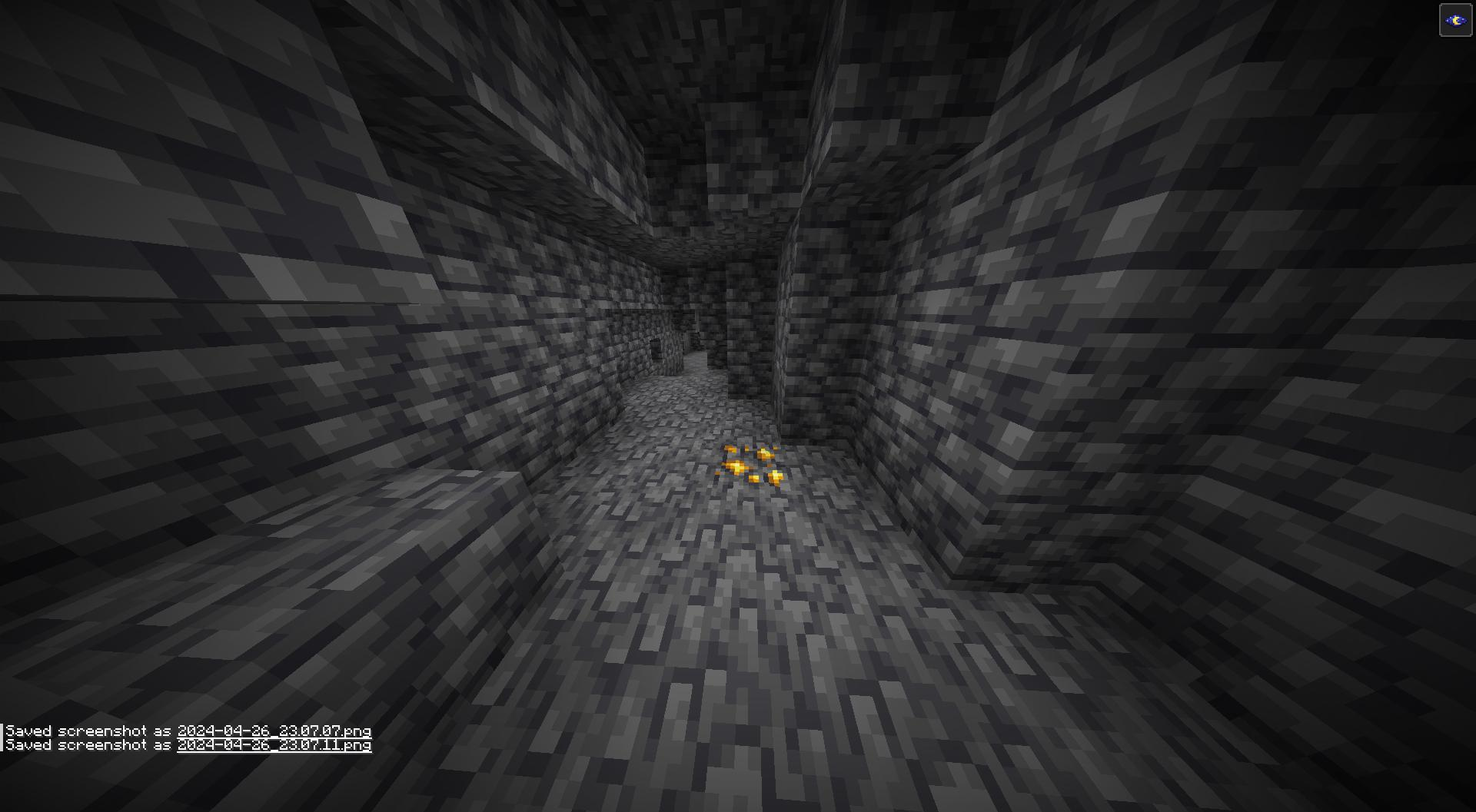gold ore: (717, 438, 782, 493)
